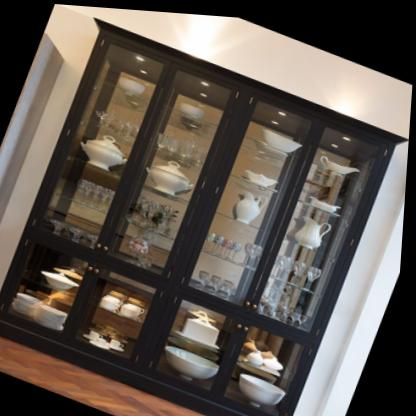Cupboard: (0, 19, 408, 416)
